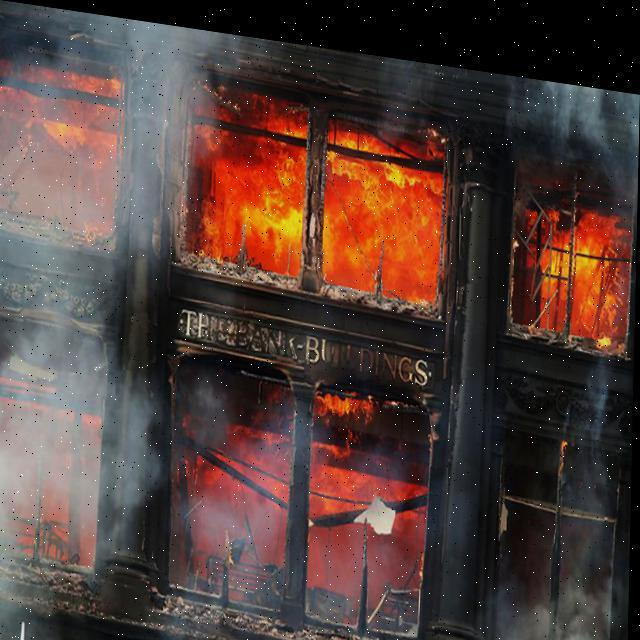Fire: (174, 355, 446, 625), (204, 87, 446, 336), (509, 159, 637, 360), (0, 45, 119, 242)
